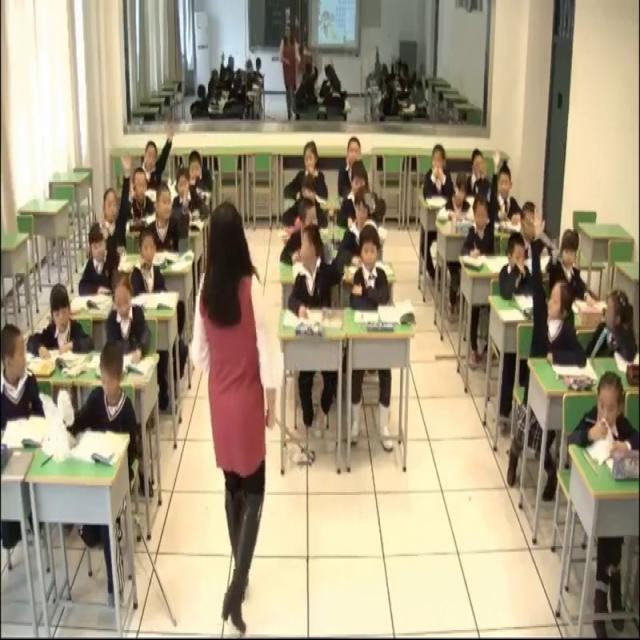distracted: (288, 210, 346, 324), (2, 325, 46, 425), (592, 290, 636, 359)
focused: (68, 343, 136, 440), (570, 375, 640, 457), (106, 267, 153, 366), (30, 287, 94, 358), (352, 228, 394, 314), (280, 201, 328, 266), (126, 230, 170, 300), (280, 176, 329, 235), (501, 228, 540, 300), (344, 188, 385, 256), (288, 145, 330, 211), (552, 228, 589, 300), (337, 167, 377, 226), (518, 197, 550, 265), (335, 133, 367, 199), (492, 158, 523, 224), (174, 170, 209, 228), (436, 173, 476, 220), (185, 149, 214, 205), (129, 164, 157, 221), (426, 141, 452, 201), (469, 145, 493, 201)
raising_hand: (530, 217, 584, 366), (78, 157, 132, 294), (462, 149, 501, 257), (147, 179, 192, 260), (141, 120, 173, 187)
